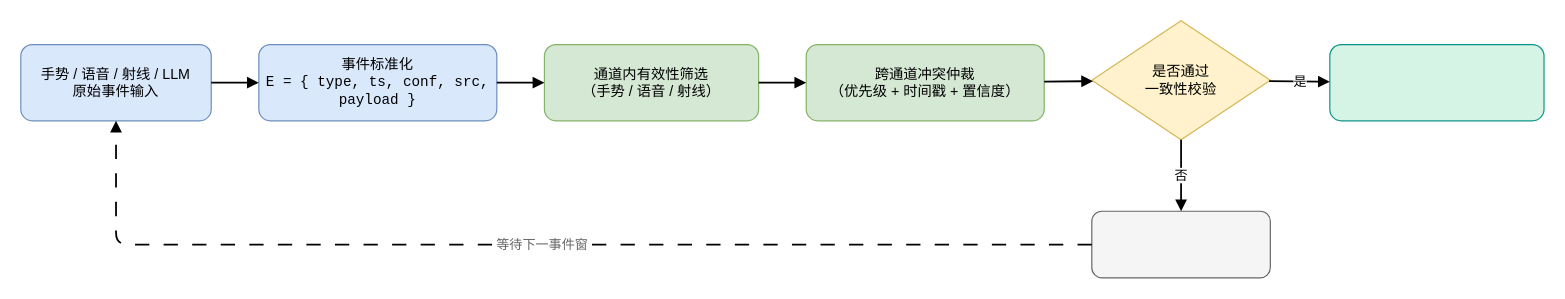
The diagram is 1565 pixels wide and 299 high, and some of its shapes have lost their labels. Here are the shapes that lost their labels. From the top down, the centre of each, then its label:
point 1436,82: 写入统一事件队列 串行提交状态
point 1180,244: 保守拒绝 轻提示反馈
